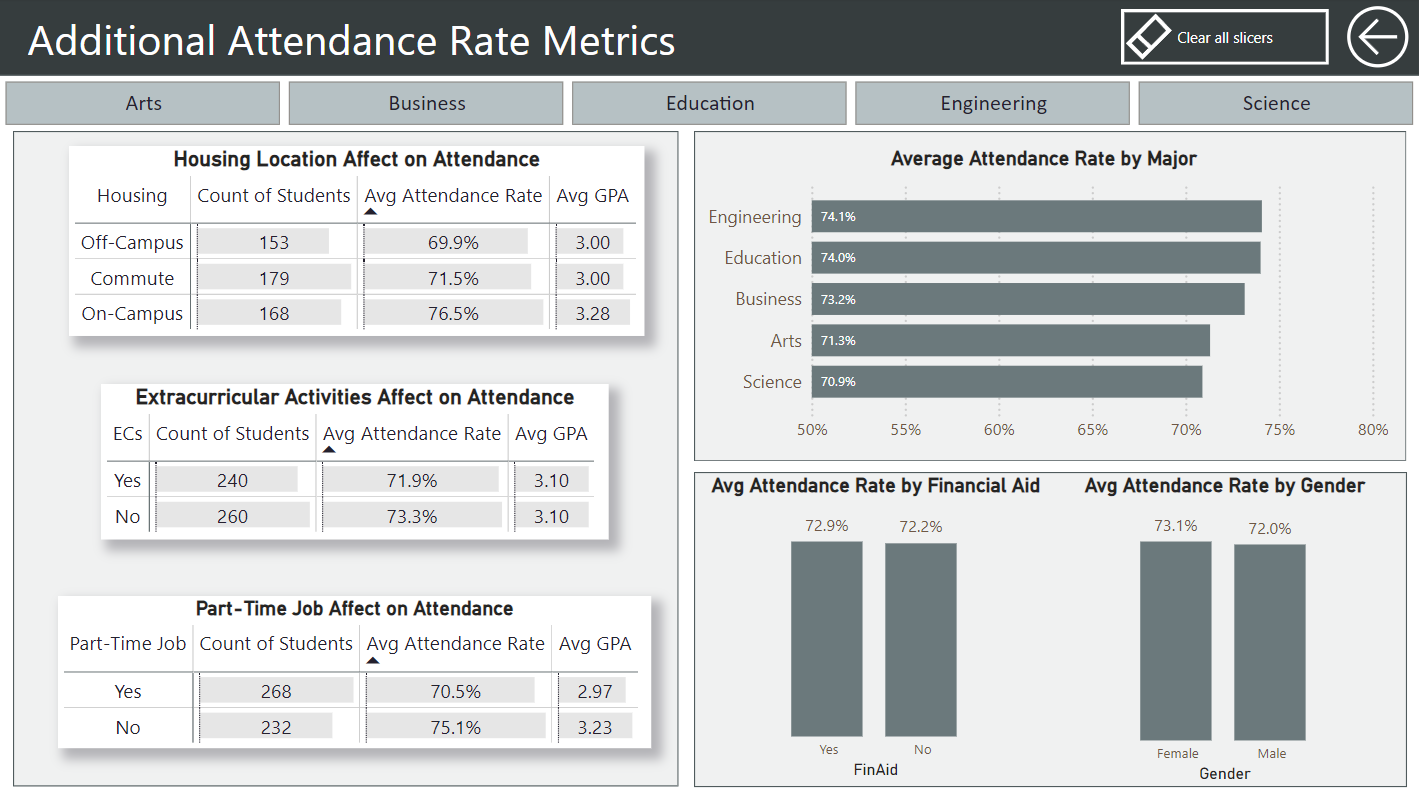

Layout of this report page (visuals, bound fields, positions):
{"tool":"powerbi","page":{"name":"AttendenceRate","canvas":[1280,720],"ordinal":1},"visuals":[{"type":"shape","box":[626.4,426.4,641.8,283.6],"z":0},{"type":"shape","box":[626.7,120,641.3,297.3],"z":1000},{"type":"shape","box":[13.6,120,599.1,590],"z":2000},{"type":"shape","box":[0,0,1280,69.9],"z":3000},{"type":"textbox","box":[21.6,6,604.6,63.8],"z":4000},{"type":"barChart","title":"Average Attendance Rate by Major","fields":{"Category":["General AVGs.Major"],"Y":["Avg(General AVGs.avg_attendance)"]},"box":[626.4,133.6,630,275.5],"z":5000},{"type":"actionButton","box":[1206.7,0,73.3,69.9],"z":6000},{"type":"pivotTable","title":"Housing Location Affect on Attendance","fields":{"Rows":["Query1.Housing"],"Values":["Sum(Query1.Count_Students)","Avg(Query1.Avg_Attendance_Rate)","Avg(Query1.Avg_GPA)"]},"box":[63.6,133.6,518.2,170.9],"z":7000},{"type":"pivotTable","title":"Extracurricular Activities Affect on Attendance","fields":{"Rows":["Query1.ExtraCurricularActivities"],"Values":["Sum(Query1.Count_Students)","Avg(Query1.Avg_Attendance_Rate)","Avg(Query1.Avg_GPA)"]},"box":[92.7,347.3,457.3,140],"z":8000},{"type":"pivotTable","title":"Part-Time Job Affect on Attendance","fields":{"Rows":["Part-Time Job.PartTimeJob"],"Values":["Sum(Part-Time Job.Count_Students)","Avg(Part-Time Job.Avg_Attendance_Rate)","Avg(Part-Time Job.Avg_GPA)"]},"box":[54.3,538.6,534.3,137.1],"z":9000},{"type":"advancedSlicerVisual","fields":{"Values":["General AVGs.Major"]},"box":[1.8,70,1278.2,50],"z":10000},{"type":"columnChart","title":"Avg Attendance Rate by Financial Aid ","fields":{"Category":["Query1.FinAid"],"Y":["Avg(Query1.Avg_Attendance_Rate)"]},"box":[632.4,427.9,314.9,280.2],"z":11000},{"type":"columnChart","title":"Avg Attendance Rate by Gender","fields":{"Category":["Query1.Gender"],"Y":["Avg(Query1.Avg_Attendance_Rate)"]},"box":[947.3,427.9,314.9,283.8],"z":12000},{"type":"actionButton","box":[1010.9,9.9,187.2,50.4],"z":13000}]}

Visuals, with their boxes in screenshot pixels (x1, y1, x2, y2), scaled from the page's 1280x720 canvas onto the 1419x796 screenshot:
shape: 694,471,1406,785
shape: 695,133,1406,461
shape: 15,133,679,785
shape: 0,0,1418,77
textbox: 24,7,694,77
"Average Attendance Rate by Major" barChart: 694,148,1393,452
actionButton: 1338,0,1418,77
"Housing Location Affect on Attendance" pivotTable: 71,148,645,337
"Extracurricular Activities Affect on Attendance" pivotTable: 103,384,610,539
"Part-Time Job Affect on Attendance" pivotTable: 60,595,653,747
advancedSlicerVisual - General AVGs.Major: 2,77,1418,133
"Avg Attendance Rate by Financial Aid " columnChart: 701,473,1050,783
"Avg Attendance Rate by Gender" columnChart: 1050,473,1399,787
actionButton: 1121,11,1328,67
